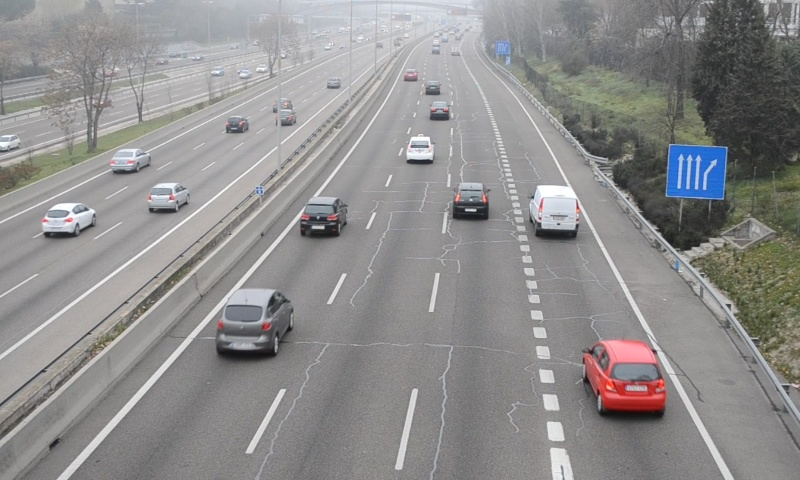car: (585, 338, 667, 414), (216, 288, 294, 355), (300, 196, 346, 236), (454, 180, 488, 218), (405, 135, 435, 163), (429, 100, 451, 120), (425, 80, 441, 97)
van: (531, 185, 580, 238)
